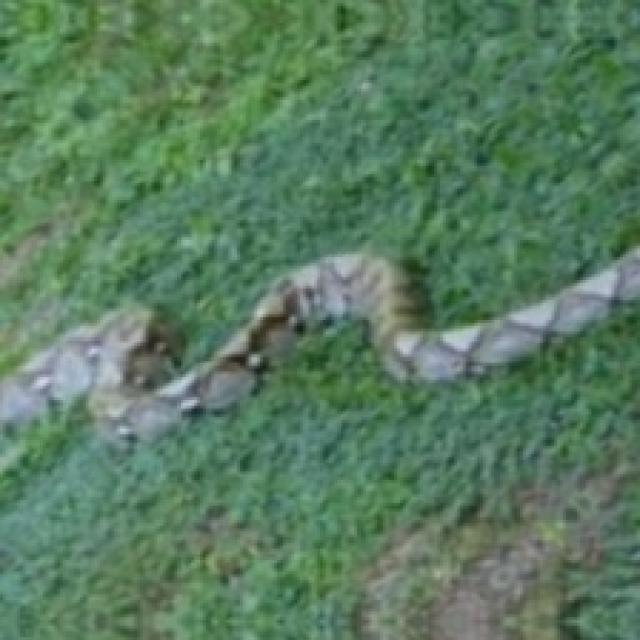reticulated python: (97, 246, 637, 437)
